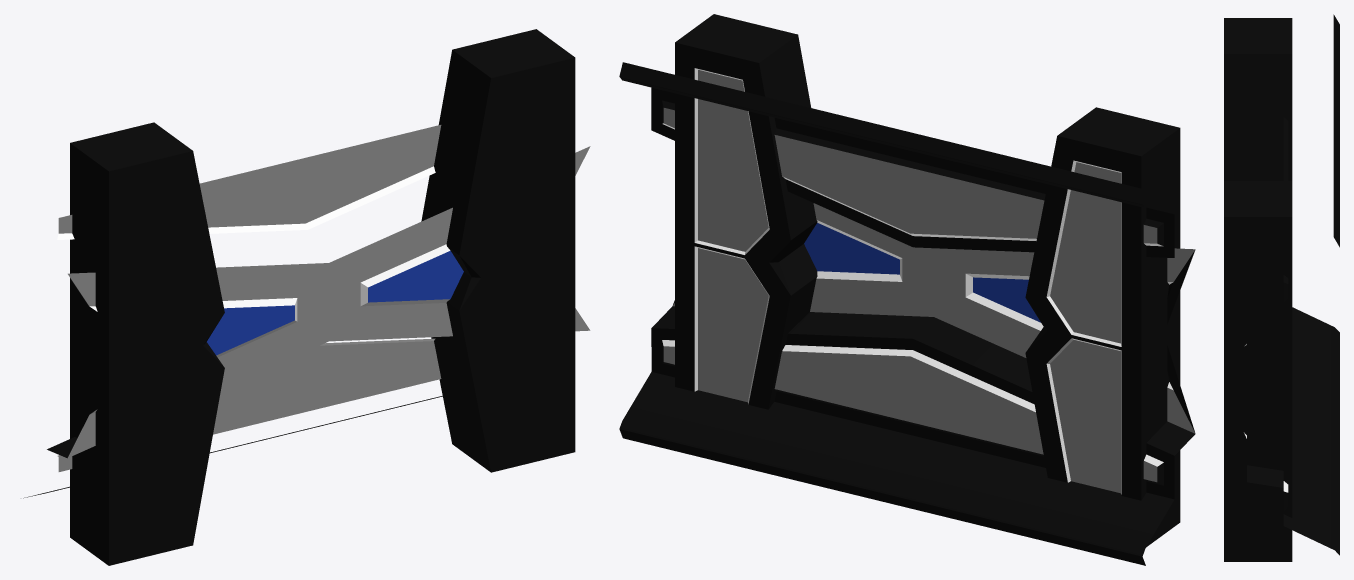
Rendered from Ending_square_02.FBX.
3 views of the same model, side by side, from view 1: azimuth 30°, elevation 25°; view 2: azimuth 150°, elevation 25°; view 3: azimuth 270°, elevation 25° (orthographic). The views are drawn at different scales.
Parts seen in each view (by area): view 1: Ending002; view 2: Ending002; view 3: Ending002.
Part boxes in pixels (x1,y1,x2,y2): Ending002: (23,29,590,565); Ending002: (619,14,1195,565); Ending002: (1224,14,1339,561).
Bounding box in the file's own units: 918 × 662 × 201.
